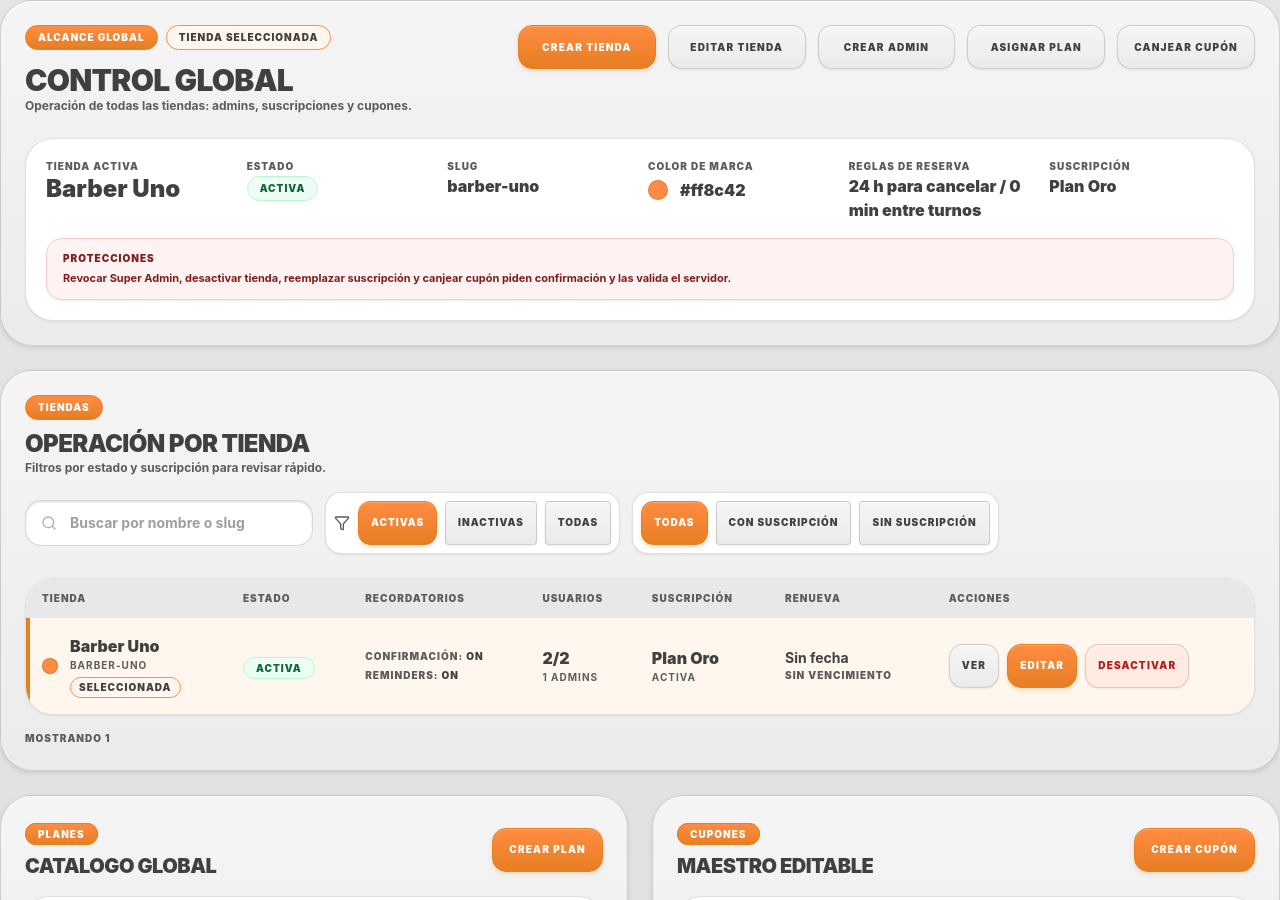
Test: SuperAdminPage › un slug invalido no se envia y explica el formato
Click the button "Crear tienda" at (587, 47), box [518,25,656,69]
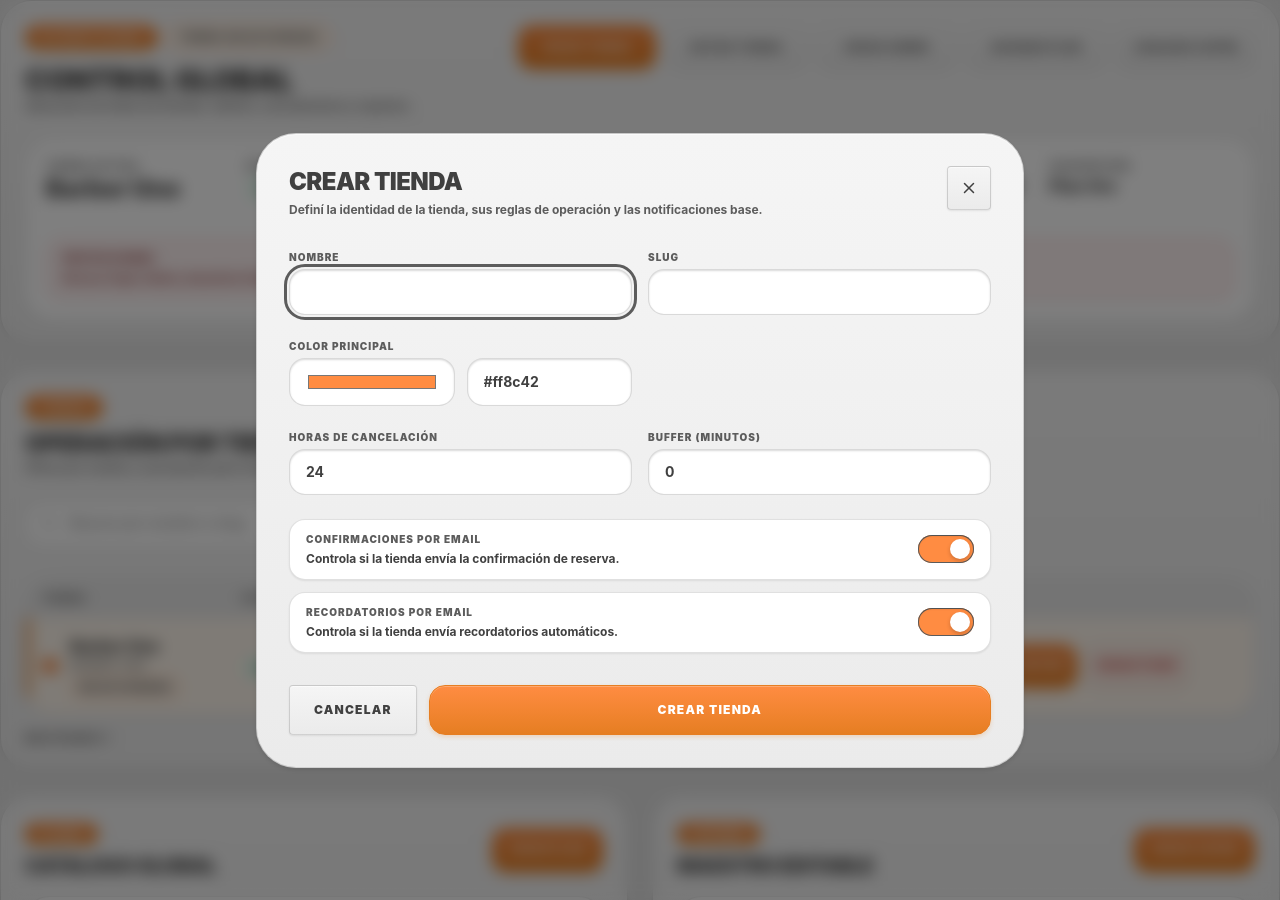
Type "Barber Dos" into the field labelled "Nombre" at (460, 292), box [289,268,632,314]
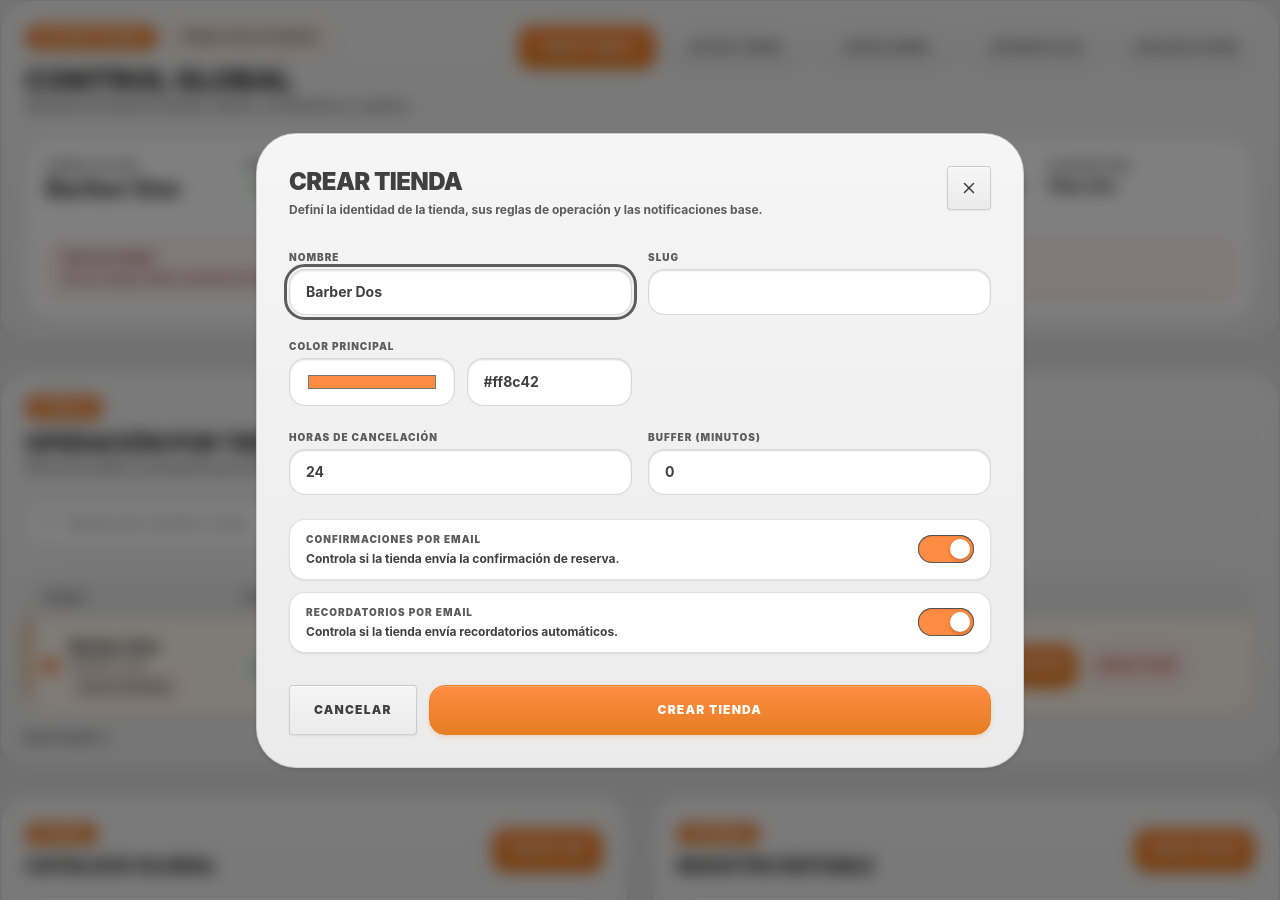
Type "Barber Dos!" into the field labelled "Slug" at (820, 292), box [648,268,991,314]
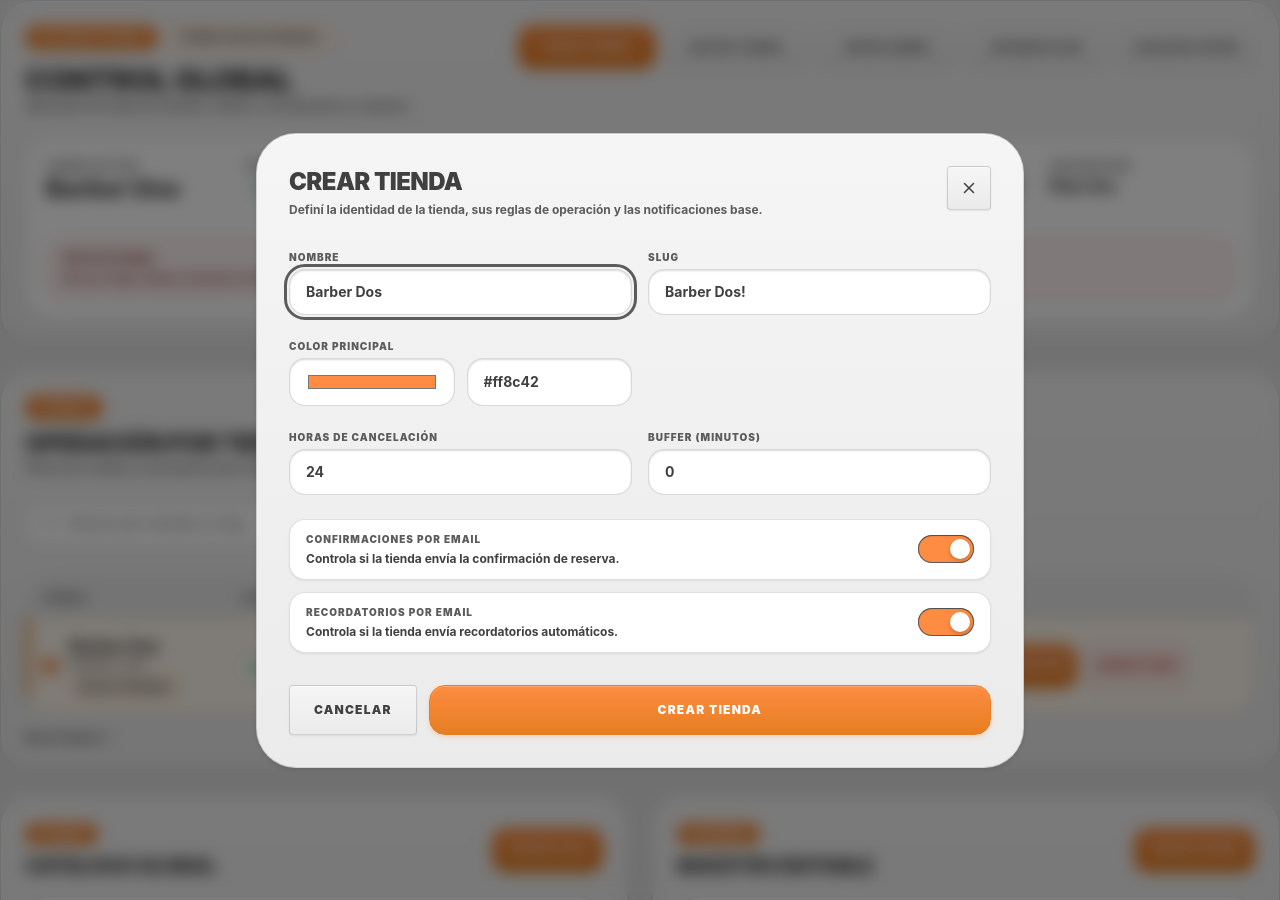
Submit the form, box [289,250,991,734]
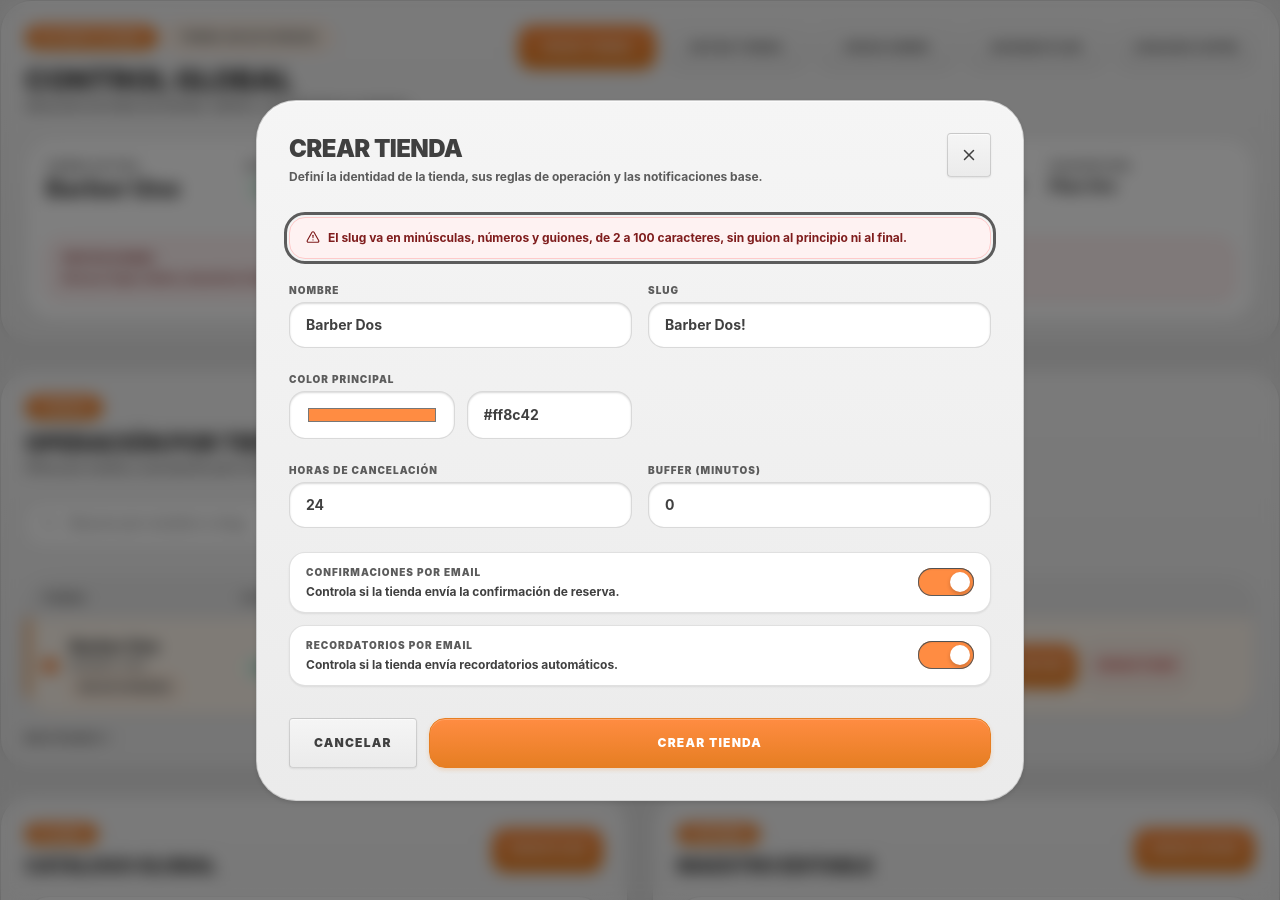
Result: the message shows "minúsculas, números y guiones" at [328,230,907,244]
